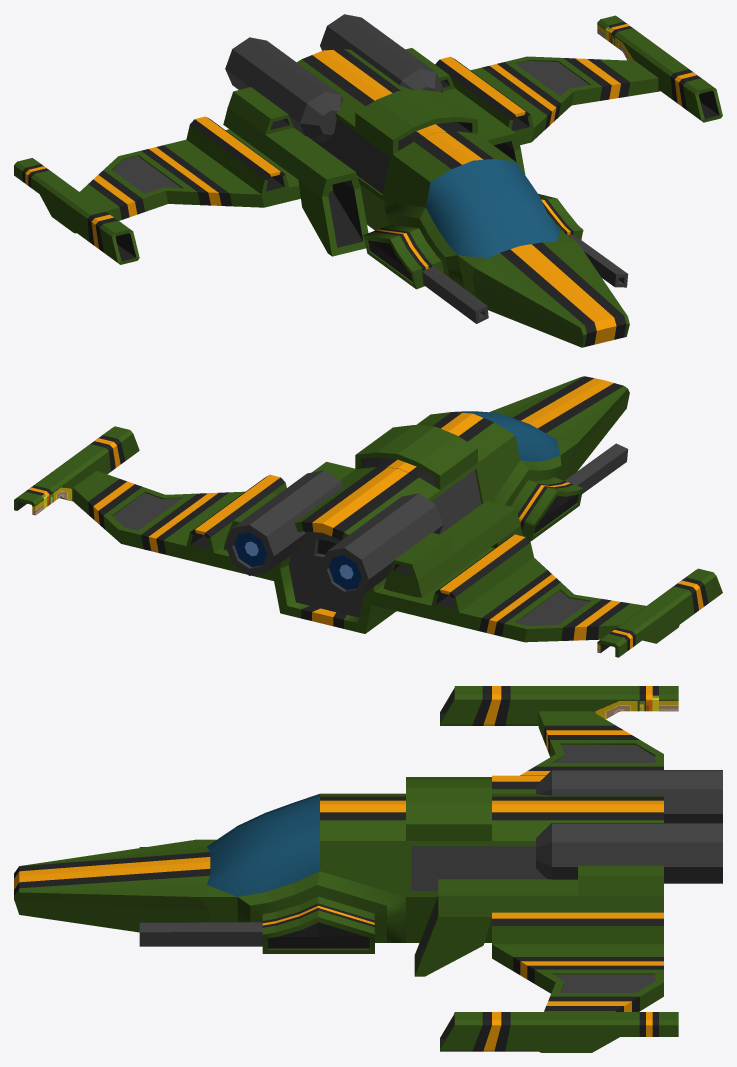
The model's file is Nave_jugador.fbx.
The picture shows the model from 3 angles, top to bottom: view 1: azimuth 30°, elevation 25°; view 2: azimuth 150°, elevation 25°; view 3: azimuth 270°, elevation 25°; orthographic projection. The views are drawn at different scales.
Parts seen in each view (by area): view 1: Cube; view 2: Cube; view 3: Cube.
Boxes of the visible parts, x1,y1,x2,y2 form: Cube: (14,14,722,347); Cube: (14,376,722,657); Cube: (14,686,722,1052).
Bounding box in the file's own units: 1423 × 262 × 1263.
Materials: 1 (1 with a texture image).
